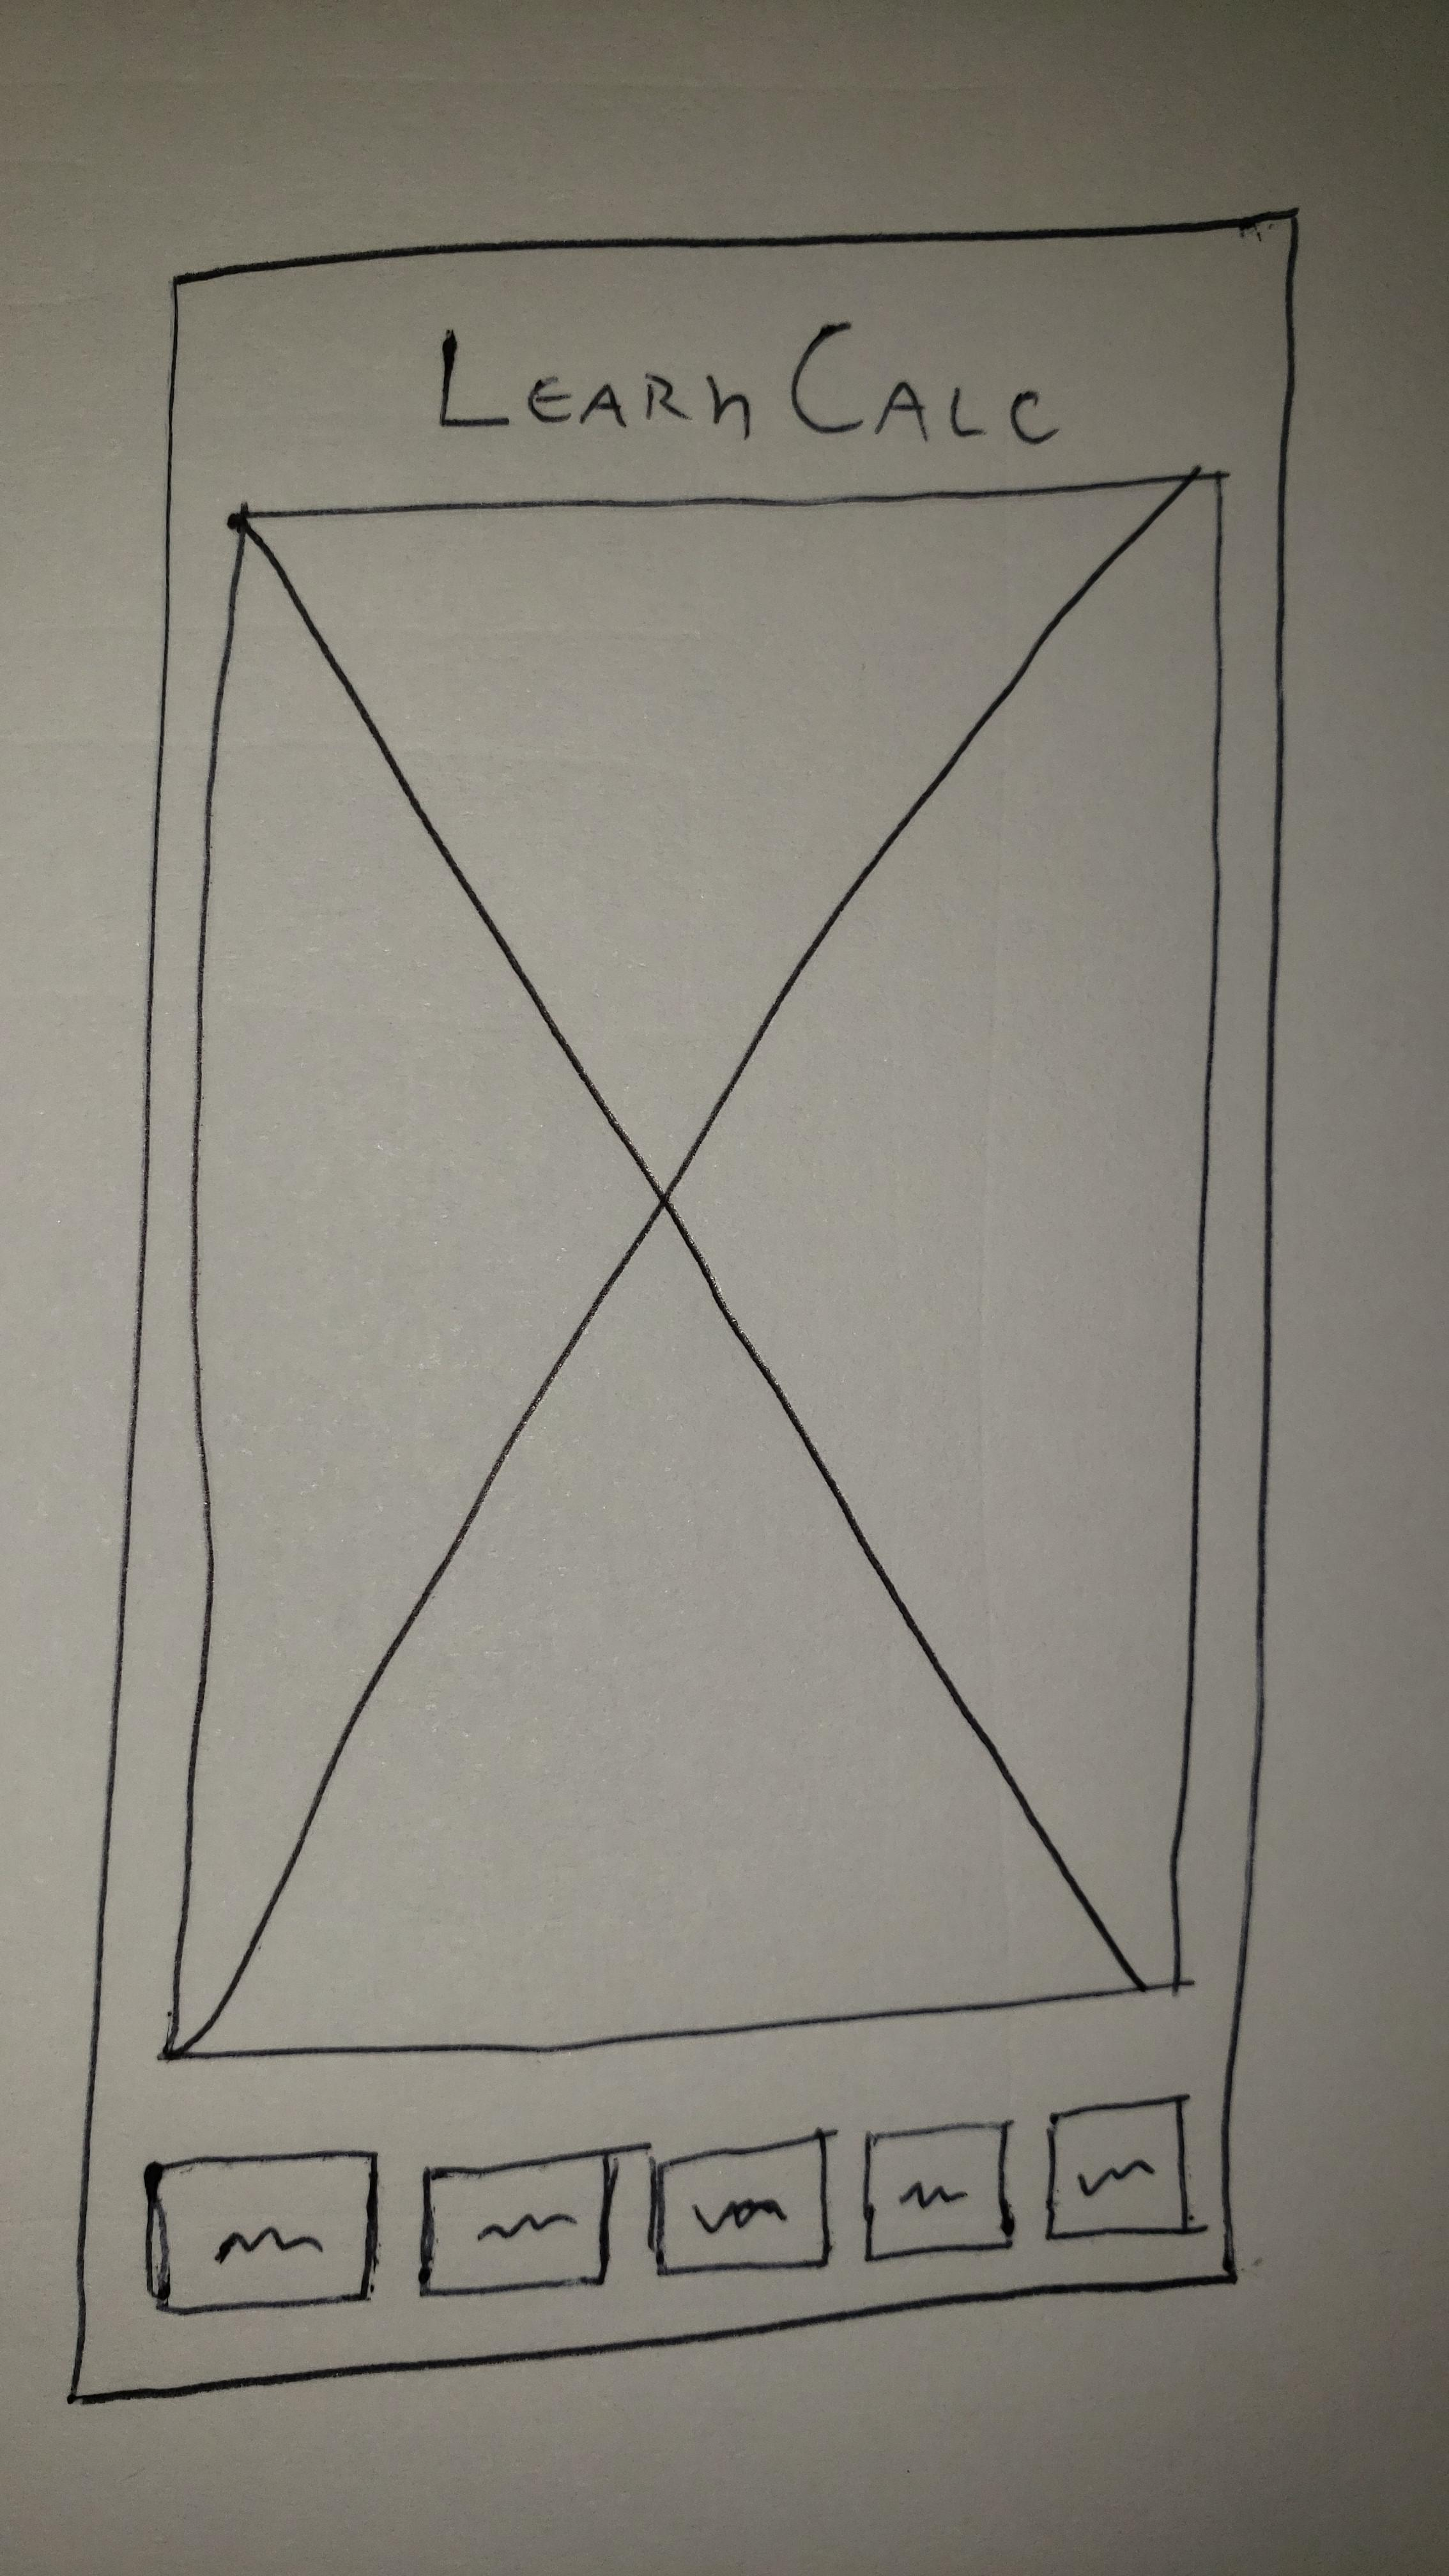Button: (145, 2150, 380, 2312), (418, 2150, 616, 2298), (653, 2130, 830, 2273), (860, 2121, 1016, 2265), (1042, 2100, 1192, 2243)
Image: (156, 467, 1226, 2063)
Label: (433, 318, 1058, 446)
Screen: (65, 207, 1304, 2403)
